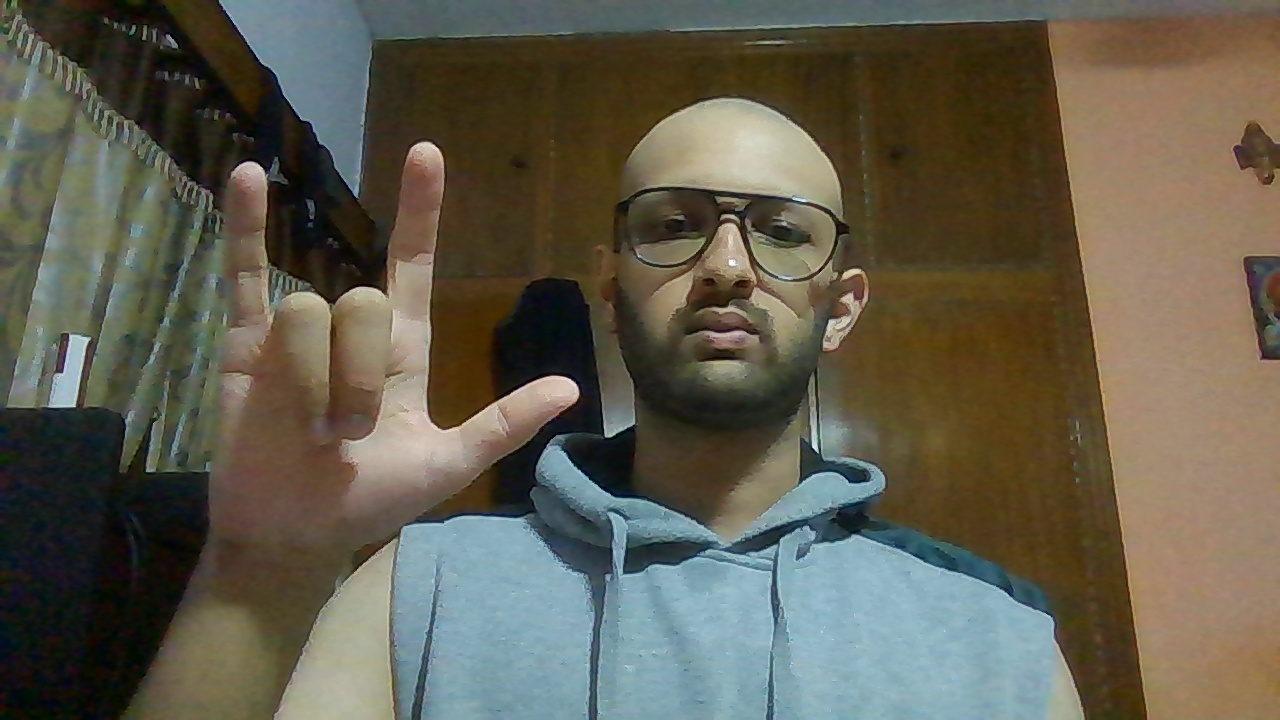I Love You: (199, 138, 586, 555)
